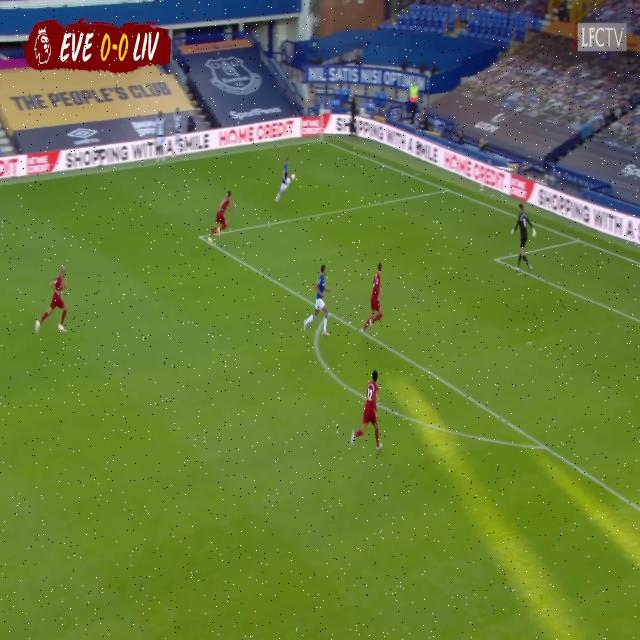Ball: (289, 170, 296, 188)
GoalKeeper: (512, 198, 538, 274)
TEAM 1: (349, 363, 392, 466), (37, 260, 72, 336), (366, 258, 384, 344), (210, 185, 233, 242)
TEAM 2: (306, 264, 331, 342), (278, 155, 290, 205)
